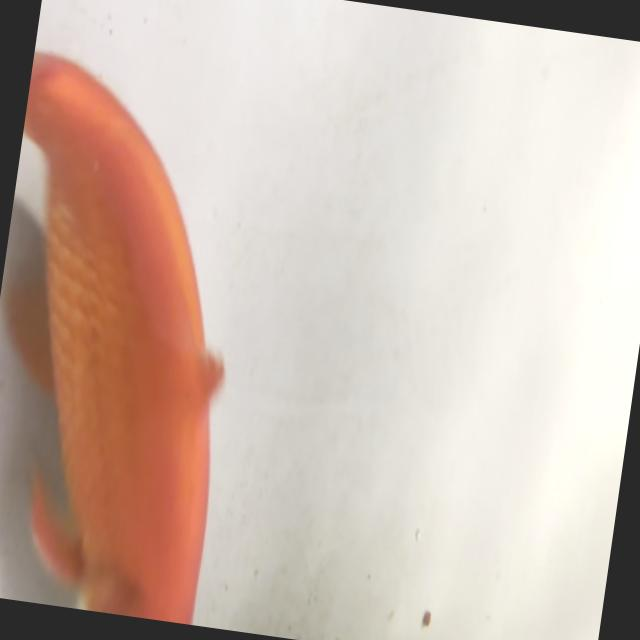fish: (0, 38, 270, 625)
